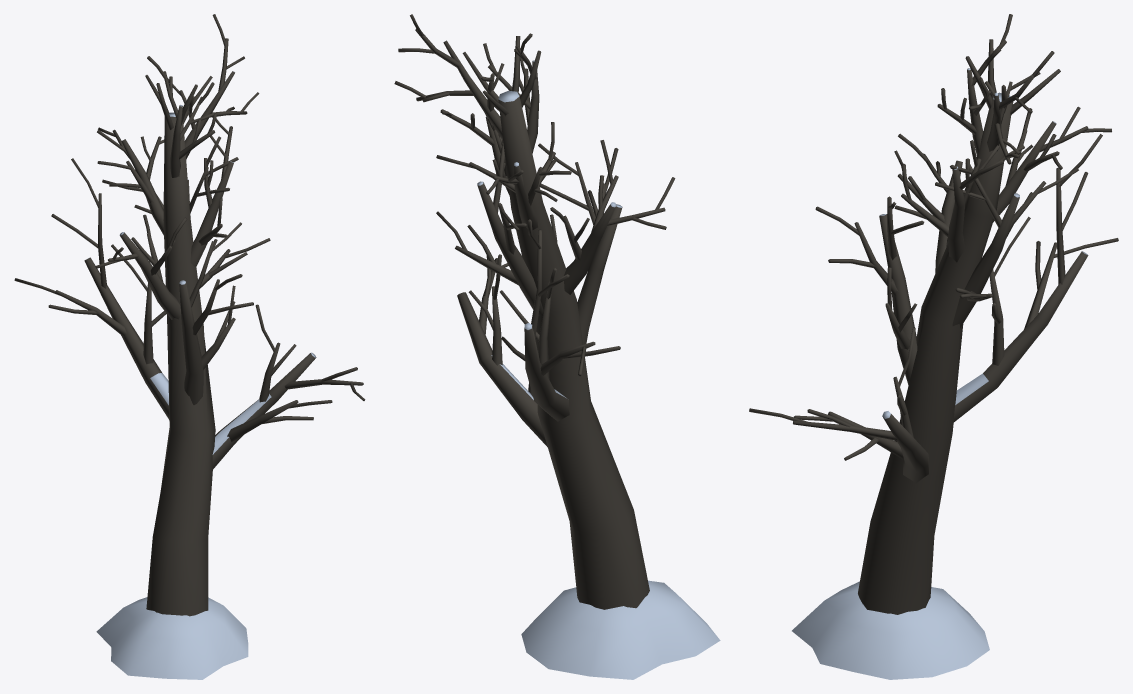
File: dead_tree.glb
3 renders of one model, left to right at view 1: azimuth 30°, elevation 25°; view 2: azimuth 150°, elevation 25°; view 3: azimuth 270°, elevation 25°, orthographic. The views are drawn at different scales.
Visible parts, largest first — view 1: Tree; view 2: Tree; view 3: Tree.
Part boxes in pixels (x1,y1,x2,y2): Tree: (14, 14, 365, 679); Tree: (394, 14, 720, 679); Tree: (749, 14, 1118, 679).
Bounding box in the file's own units: 1.99 × 4.92 × 2.54.
